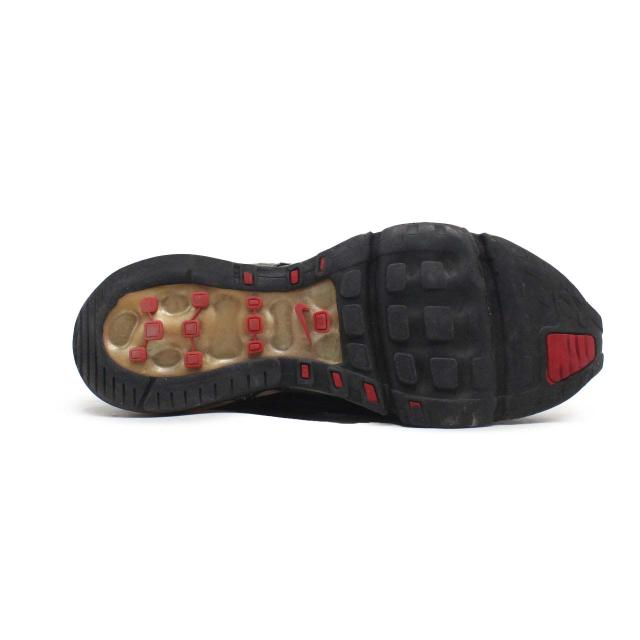outersole: (72, 222, 604, 430)
